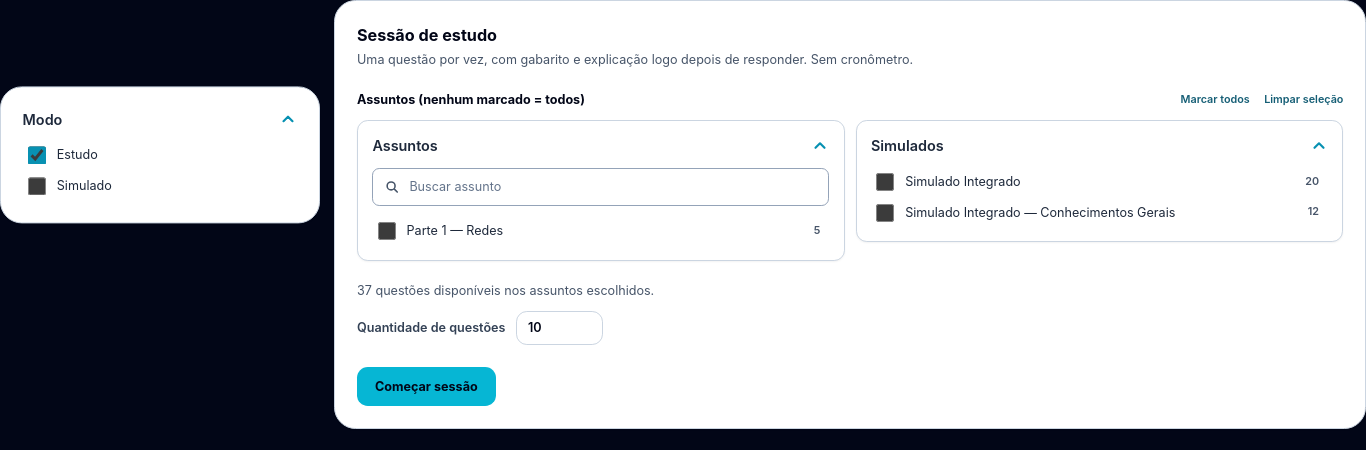
it: PracticeHub › sugere o tempo do simulado pelas questões que existem, não pela quantidade pedida
The width and height of the screenshot is (1366, 450).
Click the checkbox labelled "Parte 1 — Redes 5".
click(387, 231)  # box [378,222,396,240]
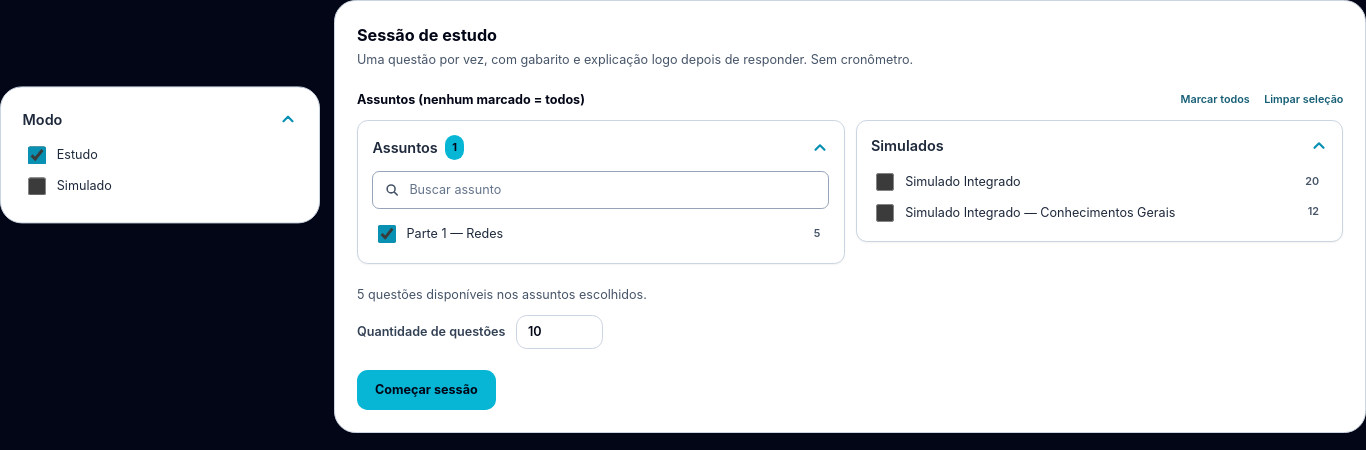
Click the checkbox labelled "Simulado".
click(37, 186)  # box [28,177,46,195]
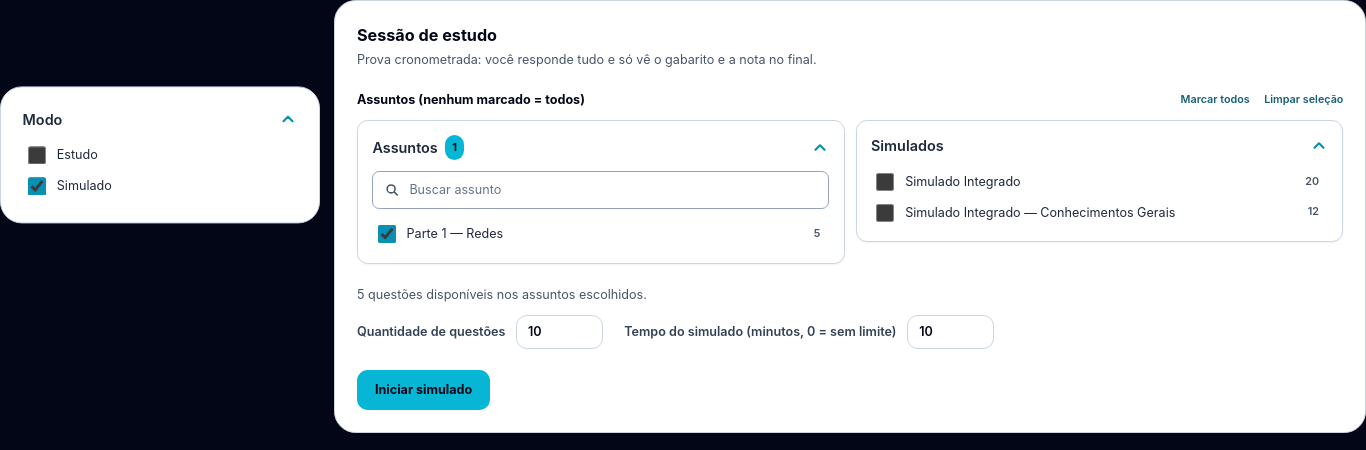
Expected: the text "5 questões disponíveis nos assuntos escolhidos." is shown, [357,287,647,302]
Expected: the number field labelled "Tempo do simulado (minutos, 0 = sem limite)" holds "10", [907,314,994,349]
